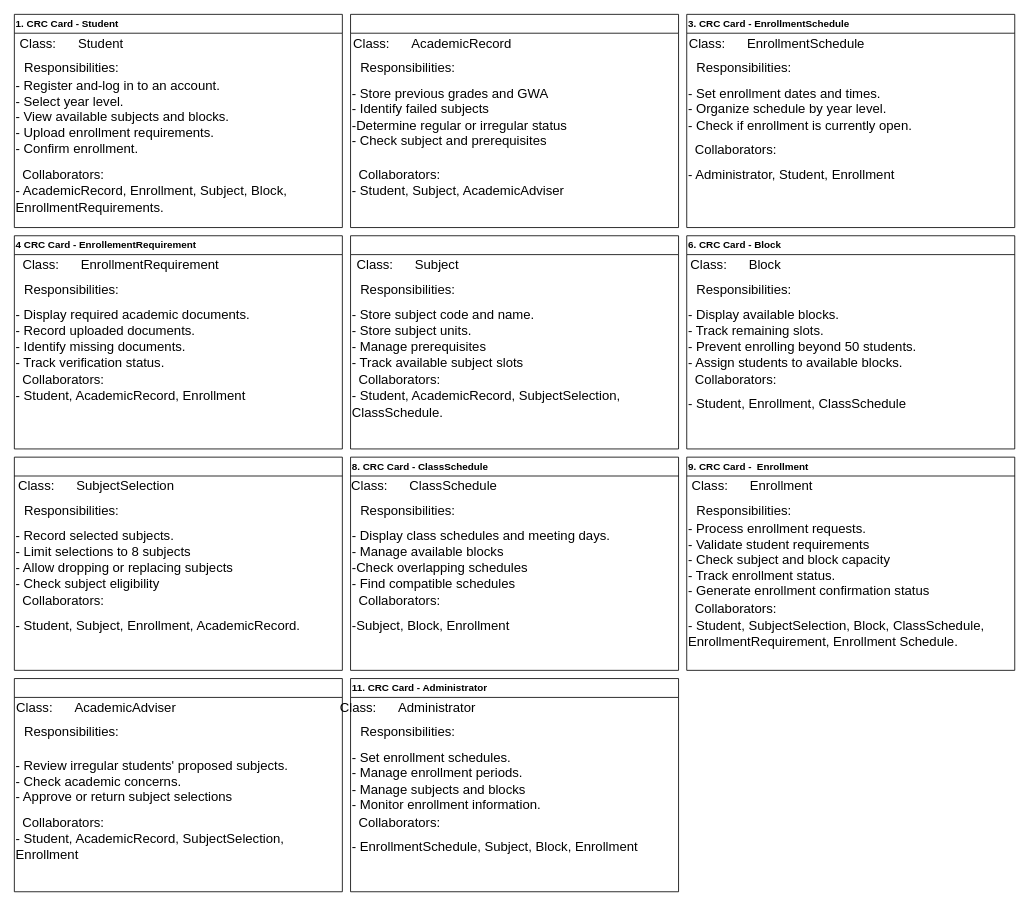
Some shapes in this 1029 by 906 pixel diagram are drawn without their labels. The shapes that lost their labels are listed below. From the top down, each one's box as (x1, y1, x2, y2) in pixels, then its label:
(350, 14, 679, 228): 2. CRC Card - AcademicRecord
(350, 235, 679, 449): 5. CRC Card - Subject
(14, 456, 342, 670): 7. CRC Card - SubjectSelection
(14, 678, 342, 892): 10. CRC Card - AcademicAdviser
